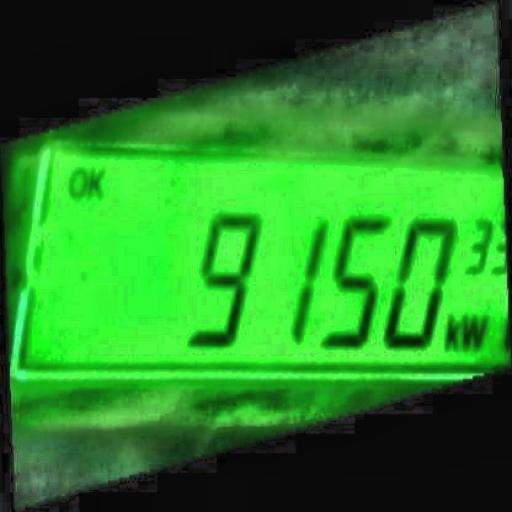DISPLAY_REGION: (1, 130, 511, 396)
SERIAL_REGION: (188, 207, 495, 356)
